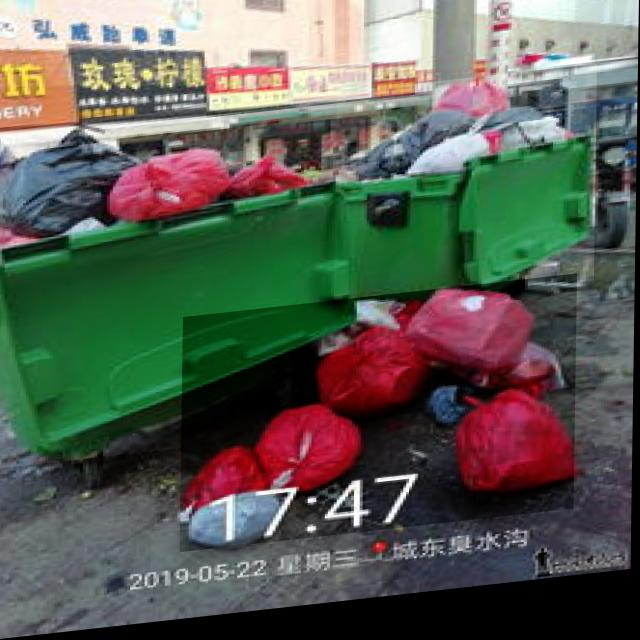garbage: (181, 287, 578, 556)
overflow: (0, 99, 357, 469), (335, 78, 598, 317)
